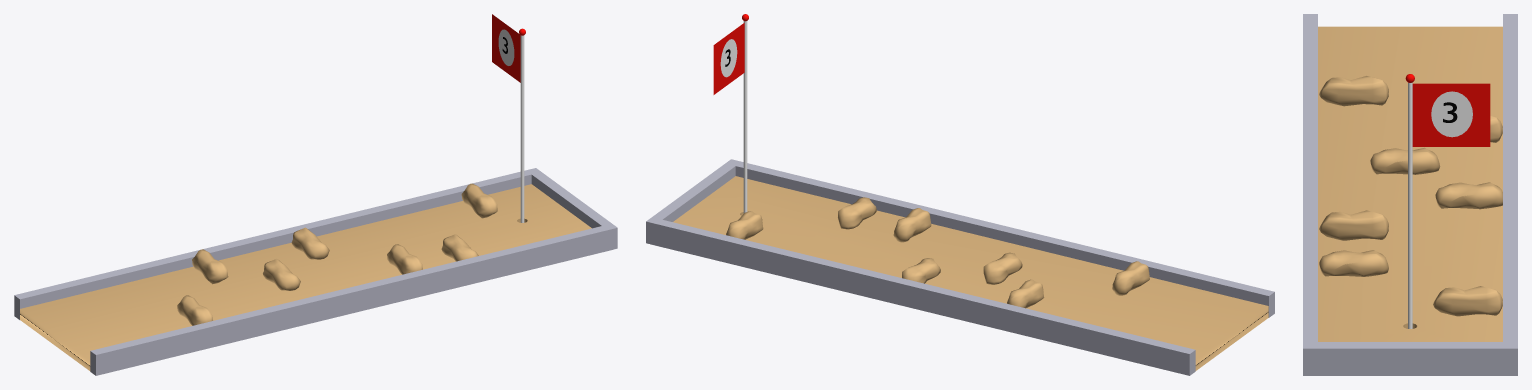
File: Bane3MedFlag.fbx
The picture shows the model from 3 angles, left to right: view 1: azimuth 30°, elevation 25°; view 2: azimuth 150°, elevation 25°; view 3: azimuth 270°, elevation 25°; orthographic projection. The views are drawn at different scales.
Parts seen in each view (by area): view 1: bane, VÆGGE, VÆGGE.001, VÆGGE.002, Cube, Cylinder.002, forhindring, forhindring.003, forhindring.001, forhindring.006, forhindring.002, forhindring.005 (+1 smaller); view 2: bane, VÆGGE.001, VÆGGE, VÆGGE.002, Cube, Cylinder.002, forhindring.005, forhindring.002, forhindring.003, forhindring.004, forhindring.006, forhindring.001 (+1 smaller); view 3: bane, VÆGGE.002, VÆGGE, VÆGGE.001, Cube, forhindring.005, forhindring.001, forhindring.002, forhindring.004, forhindring, forhindring.003, Circle.002 (+2 smaller).
Part boxes in pixels (x1=…): bane: x1=20, y1=184, x2=591, y2=370; VÆGGE: x1=90, y1=224, x2=613, y2=375; VÆGGE.001: x1=14, y1=169, x2=536, y2=319; VÆGGE.002: x1=531, y1=168, x2=617, y2=249; Cube: x1=492, y1=14, x2=520, y2=82; Cylinder.002: x1=520, y1=35, x2=524, y2=222; forhindring: x1=291, y1=227, x2=329, y2=259; forhindring.003: x1=263, y1=258, x2=300, y2=290; forhindring.001: x1=461, y1=183, x2=497, y2=218; forhindring.006: x1=192, y1=249, x2=228, y2=284; forhindring.002: x1=387, y1=244, x2=422, y2=274; forhindring.005: x1=177, y1=295, x2=212, y2=325; bane: x1=673, y1=176, x2=1268, y2=370; VÆGGE.001: x1=650, y1=218, x2=1195, y2=375; VÆGGE: x1=730, y1=160, x2=1274, y2=317; VÆGGE.002: x1=646, y1=159, x2=735, y2=244; Cube: x1=713, y1=23, x2=744, y2=94; Cylinder.002: x1=743, y1=21, x2=747, y2=213; forhindring.005: x1=1112, y1=261, x2=1149, y2=295; forhindring.002: x1=893, y1=208, x2=931, y2=242; forhindring.003: x1=983, y1=252, x2=1022, y2=284; forhindring.004: x1=838, y1=197, x2=876, y2=229; forhindring.006: x1=1007, y1=279, x2=1044, y2=308; forhindring.001: x1=726, y1=211, x2=763, y2=239; bane: x1=1318, y1=26, x2=1502, y2=341; VÆGGE.002: x1=1303, y1=342, x2=1517, y2=375; VÆGGE: x1=1303, y1=14, x2=1317, y2=345; VÆGGE.001: x1=1503, y1=14, x2=1517, y2=345; Cube: x1=1412, y1=83, x2=1490, y2=146; forhindring.005: x1=1319, y1=76, x2=1388, y2=106; forhindring.001: x1=1433, y1=286, x2=1502, y2=316; forhindring.002: x1=1319, y1=210, x2=1388, y2=240; forhindring.004: x1=1319, y1=250, x2=1388, y2=276; forhindring: x1=1435, y1=182, x2=1502, y2=209; forhindring.003: x1=1370, y1=147, x2=1440, y2=174; Circle.002: x1=1431, y1=91, x2=1472, y2=137.
Size of the model in its own units: 341 by 127 by 92.48.
